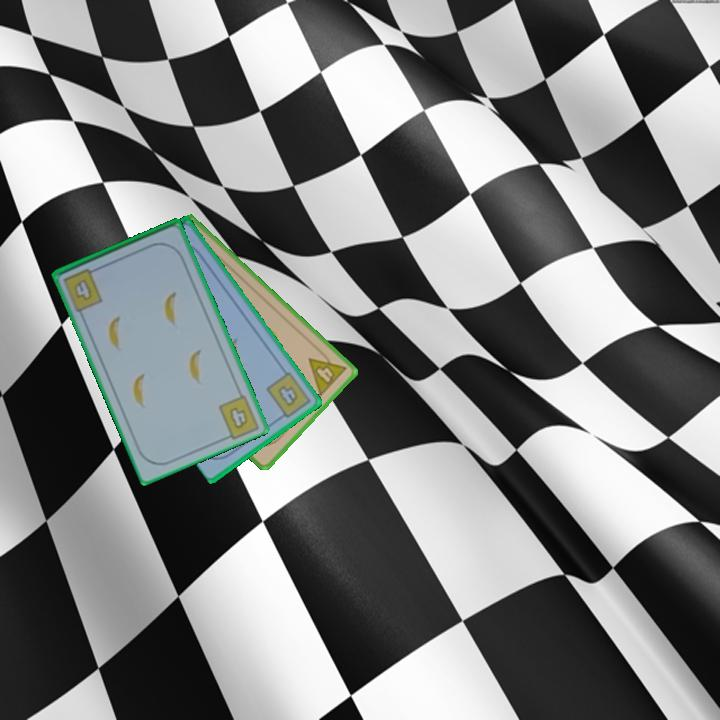4b: (263, 368, 314, 423), (60, 264, 106, 313), (226, 404, 251, 432)
4p: (305, 345, 349, 399)
